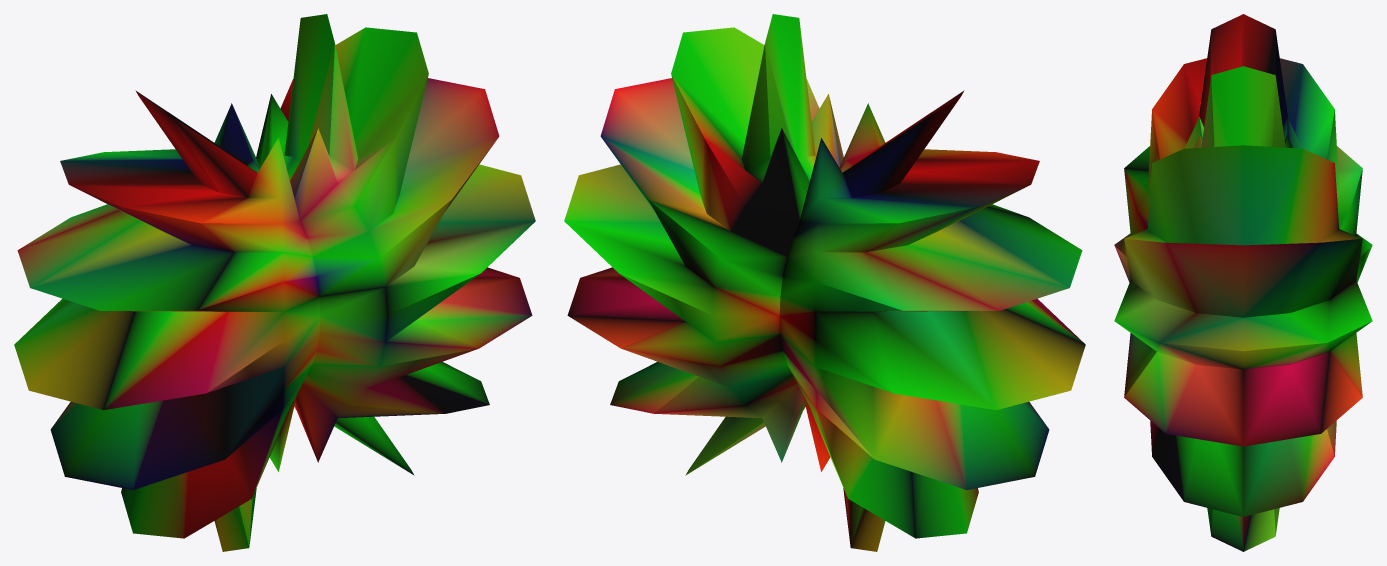
The model's file is vfx__uni_hedgehog.glb.
3 views of the same model, side by side, from view 1: azimuth 30°, elevation 25°; view 2: azimuth 150°, elevation 25°; view 3: azimuth 270°, elevation 25° (orthographic). The views are drawn at different scales.
Visible parts, largest first — view 1: uni_hedgehog; view 2: uni_hedgehog; view 3: uni_hedgehog.
Boxes of the visible parts, x1,y1,x2,y2 form: uni_hedgehog: (14, 14, 535, 551); uni_hedgehog: (564, 14, 1085, 551); uni_hedgehog: (1114, 14, 1372, 551).
Bounding box in the file's own units: 117 × 116 × 56.55.
